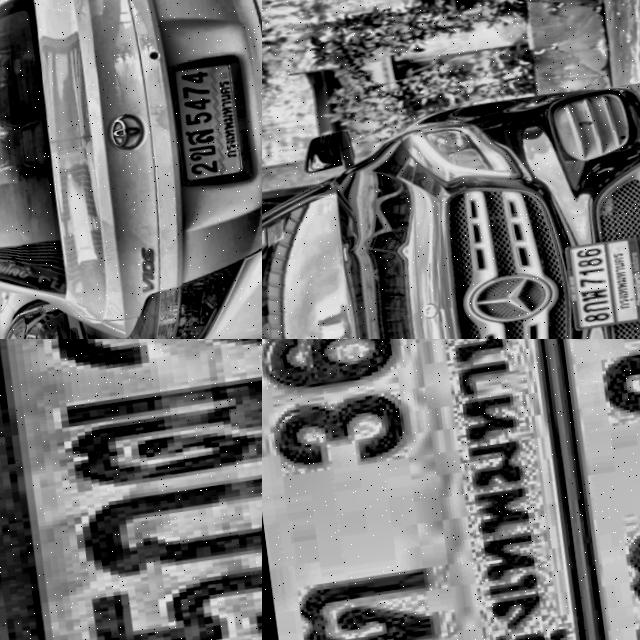license-plate: (262, 339, 597, 640), (0, 339, 262, 640), (525, 339, 640, 640), (162, 54, 255, 193), (565, 238, 640, 331)
